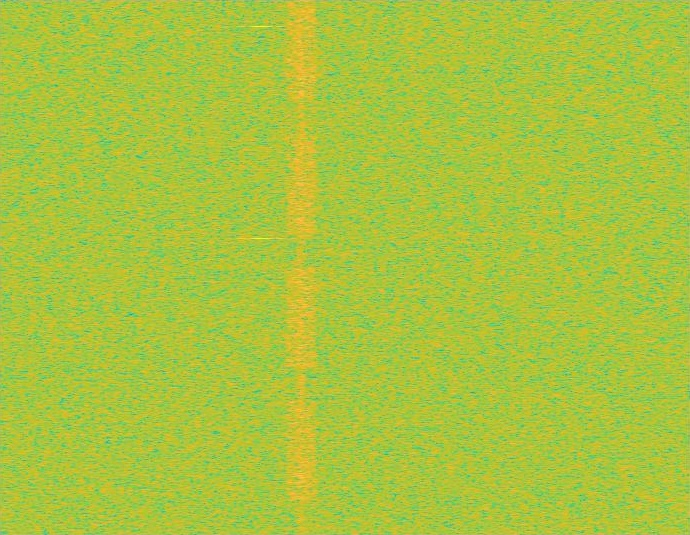5G: (284, 0, 319, 534)
DSSS: (298, 0, 305, 534)
Radar: (254, 0, 268, 534)
